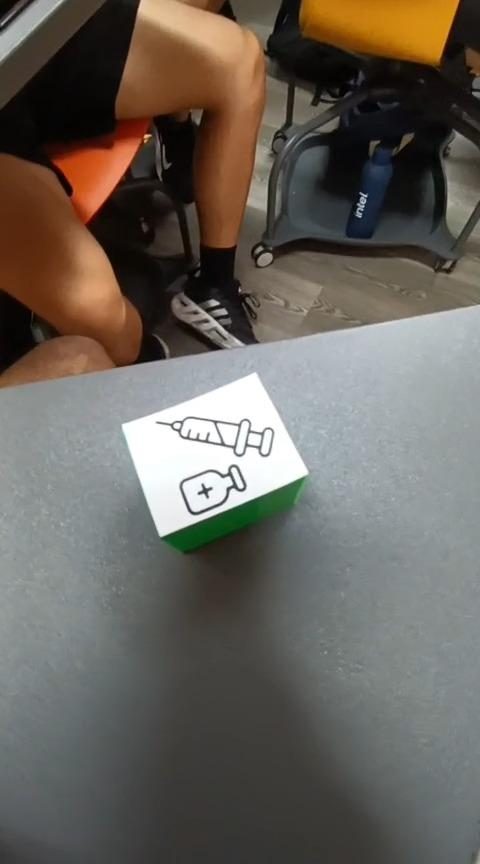antiseptic cream: (121, 371, 308, 554)
